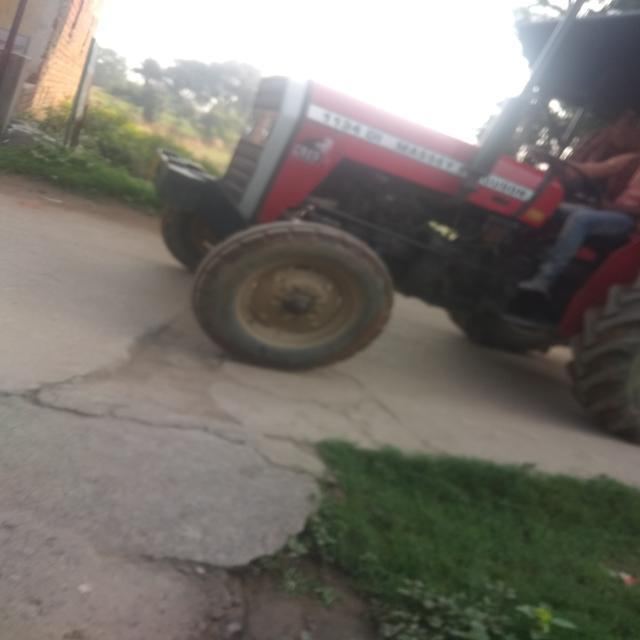tractor_front: (150, 0, 640, 379)
